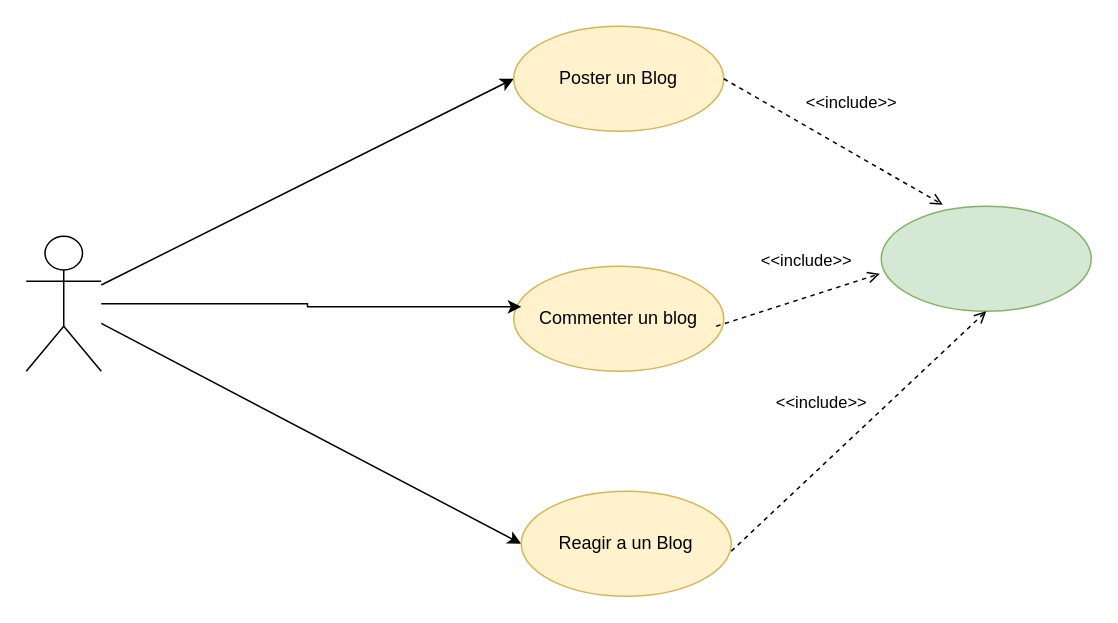
This 1118x623 diagram has some shape labels left out. The shapes that lost their labels are listed below. From the top down, each one's box as (x1, y1, x2, y2) in pixels, then its label:
(880, 205, 1091, 311): S'authentifier
(25, 235, 101, 371): Blogger
